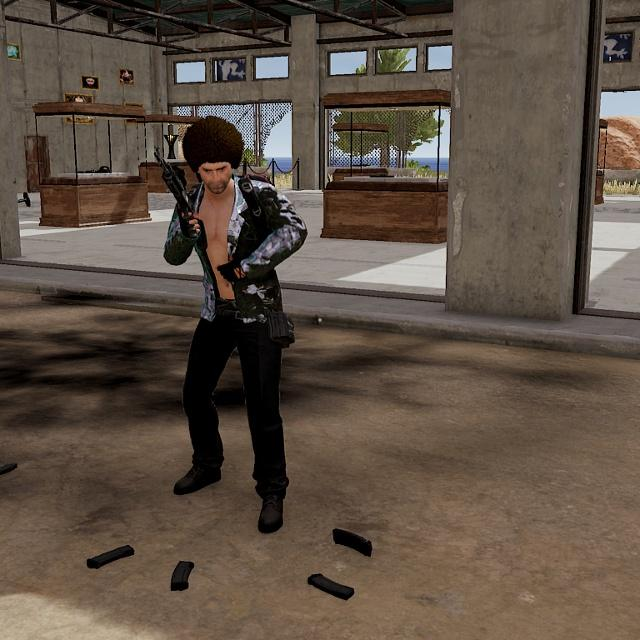head: (184, 114, 241, 196)
people: (154, 111, 306, 533)
